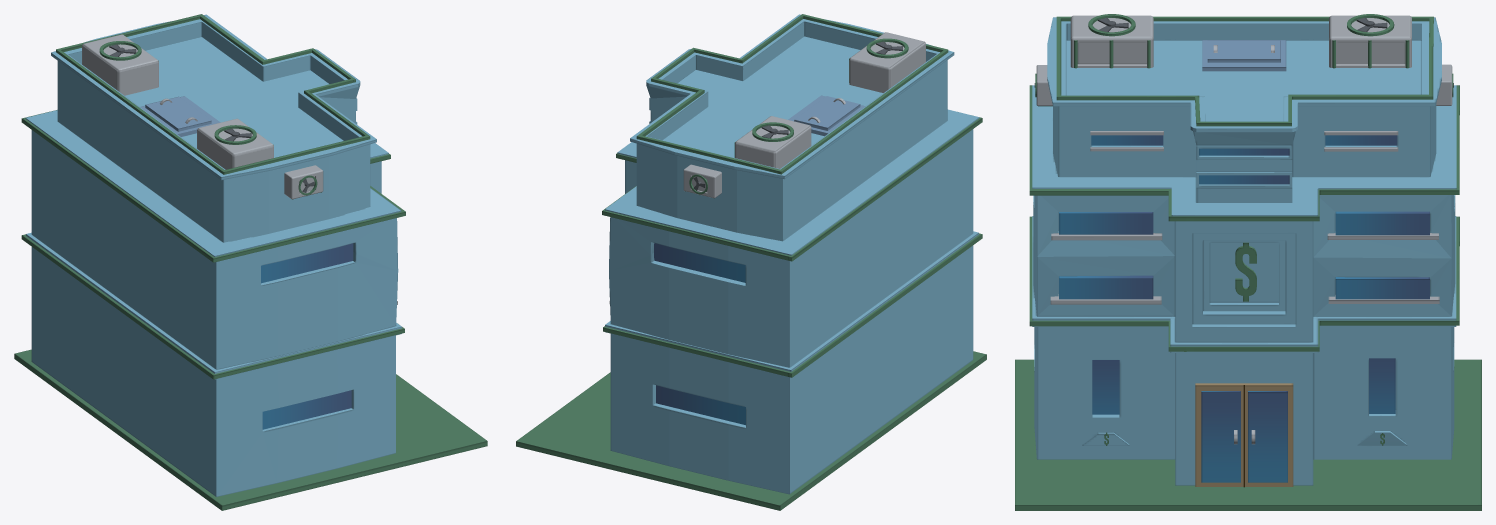
Rendered from Bank3.glb.
3 renders of one model, left to right at view 1: azimuth 30°, elevation 25°; view 2: azimuth 150°, elevation 25°; view 3: azimuth 270°, elevation 25°, orthographic. The views are drawn at different scales.
Parts seen in each view (by area): view 1: Node; view 2: Node; view 3: Node.
Boxes of the visible parts, bbox=[...] form: Node: bbox=[14, 14, 487, 510]; Node: bbox=[516, 14, 986, 510]; Node: bbox=[1015, 14, 1481, 510].
Bounding box in the file's own units: 363 × 430 × 487.
Materials: 1 (1 with a texture image).
